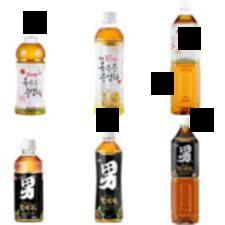heotgaecha: (94, 127, 124, 222)
oksususuyeomcha: (93, 9, 127, 118)
